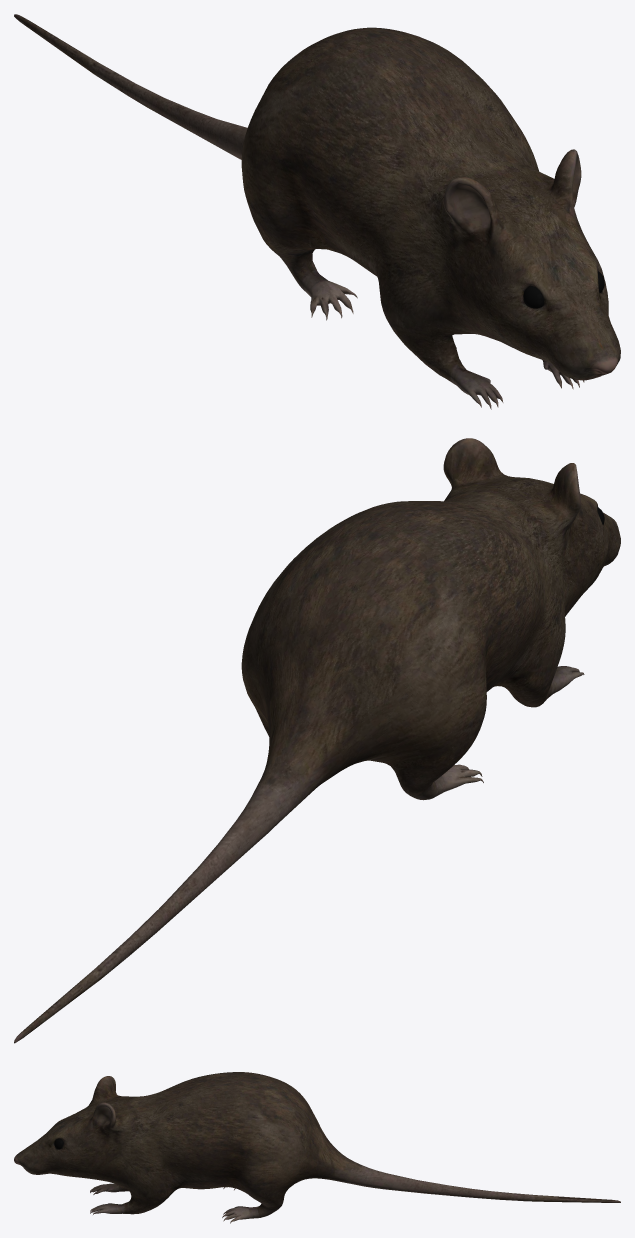
File: street_rat_1k_md.glb
3 views of the same model, one above another, from view 1: azimuth 30°, elevation 25°; view 2: azimuth 150°, elevation 25°; view 3: azimuth 270°, elevation 25° (orthographic). The views are drawn at different scales.
Visible parts, largest first — view 1: street_rat; view 2: street_rat; view 3: street_rat.
Boxes of the visible parts, x1,y1,x2,y2 form: street_rat: (14, 14, 620, 409); street_rat: (14, 438, 620, 1043); street_rat: (14, 1072, 620, 1223).
Size of the model in its own units: 0.032 by 0.0339 by 0.1483.
1 material, 1 textured.
